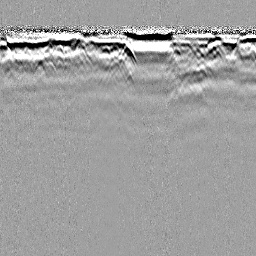cavity: (119, 40, 137, 64)
